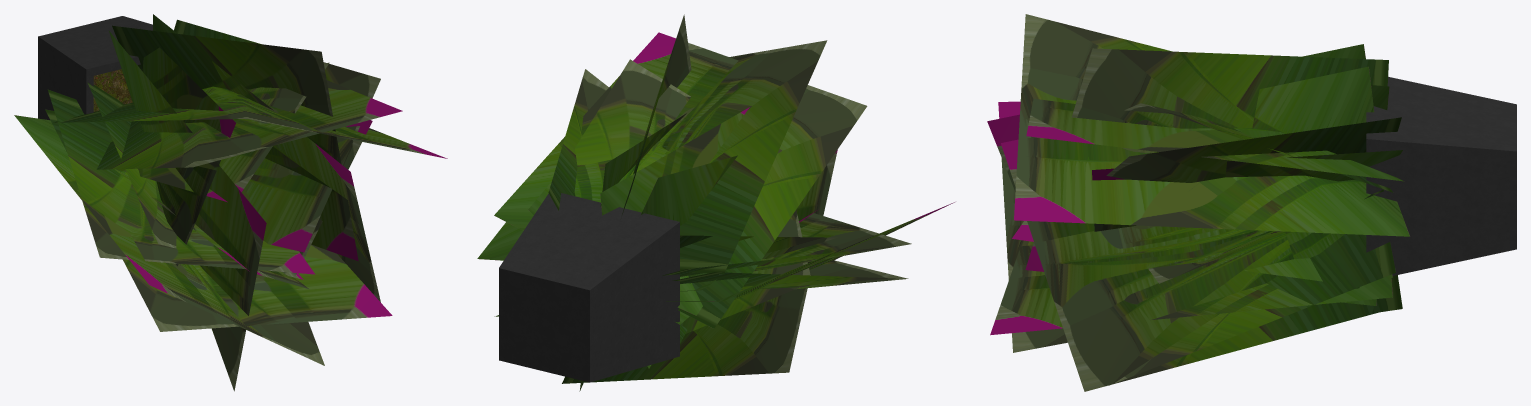
The picture shows the model from 3 angles, left to right: view 1: azimuth 30°, elevation 25°; view 2: azimuth 150°, elevation 25°; view 3: azimuth 270°, elevation 25°; orthographic projection. The views are drawn at different scales.
Visible parts, largest first — view 1: Pot_13_Low_PolyPlant_0; view 2: Pot_13_Low_PolyPlant_0; view 3: Pot_13_Low_PolyPlant_0.
Part boxes in pixels (bbox=[...]): Pot_13_Low_PolyPlant_0: bbox=[14, 14, 447, 391]; Pot_13_Low_PolyPlant_0: bbox=[477, 14, 954, 391]; Pot_13_Low_PolyPlant_0: bbox=[987, 14, 1516, 391].
Bounding box in the file's own units: 1.33 × 1.29 × 1.73.
1 material, 1 textured.
